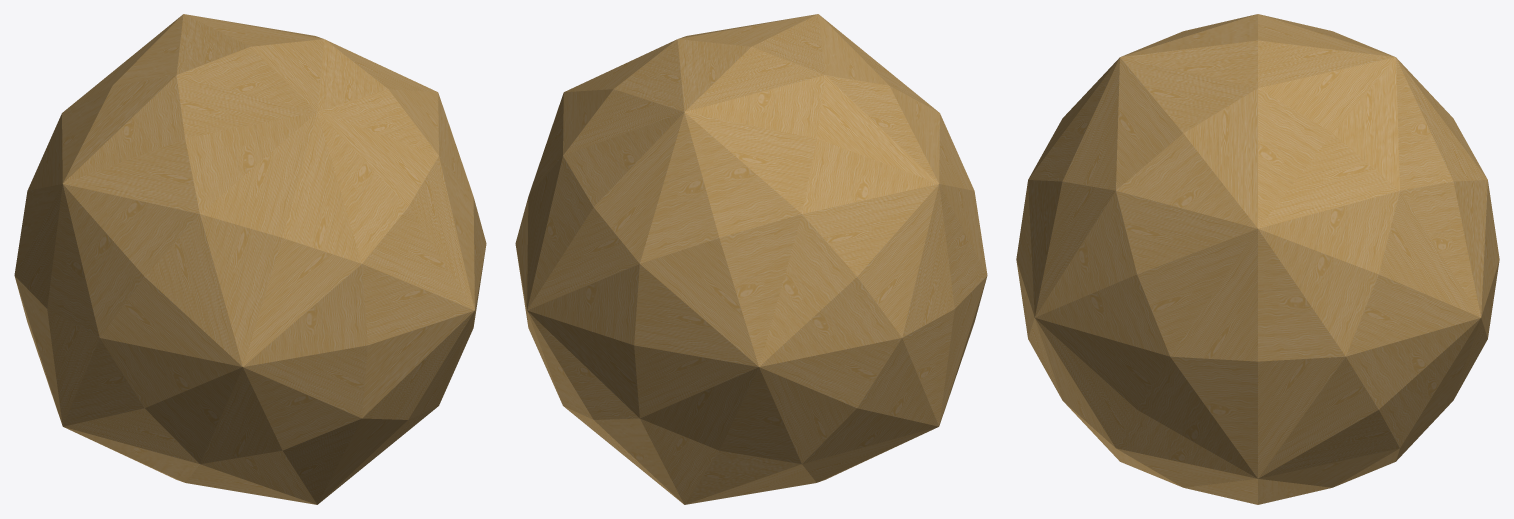
The model's file is DisdyakisTriacontahedron.glb.
3 renders of one model, left to right at view 1: azimuth 30°, elevation 25°; view 2: azimuth 150°, elevation 25°; view 3: azimuth 270°, elevation 25°, orthographic. The views are drawn at different scales.
Visible parts, largest first — view 1: 000_model; view 2: 000_model; view 3: 000_model.
Boxes of the visible parts, x1,y1,x2,y2 form: 000_model: [14, 14, 486, 504]; 000_model: [515, 14, 987, 504]; 000_model: [1016, 14, 1499, 504].
Bounding box in the file's own units: 5.45 × 5.46 × 5.46.
Materials: 1 (1 with a texture image).
